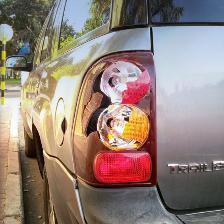tail_lamp: (77, 52, 167, 189)
